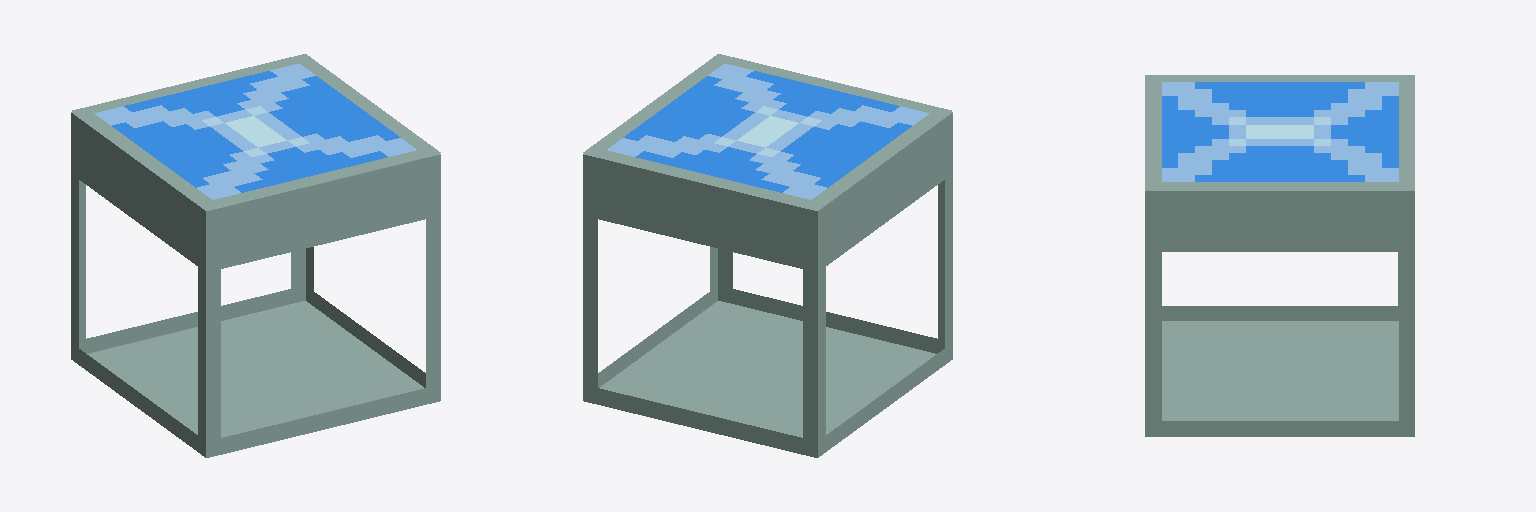
3 views of the same model, side by side, from view 1: azimuth 30°, elevation 25°; view 2: azimuth 150°, elevation 25°; view 3: azimuth 270°, elevation 25° (orthographic).
Visible parts, largest first — view 1: New model; view 2: New model; view 3: New model.
Boxes of the visible parts, x1,y1,x2,y2 form: New model: [71, 54, 440, 457]; New model: [583, 54, 952, 457]; New model: [1145, 75, 1414, 436].
Bounding box in the file's own units: 2 × 2.02 × 2.
3 materials, 3 textured.